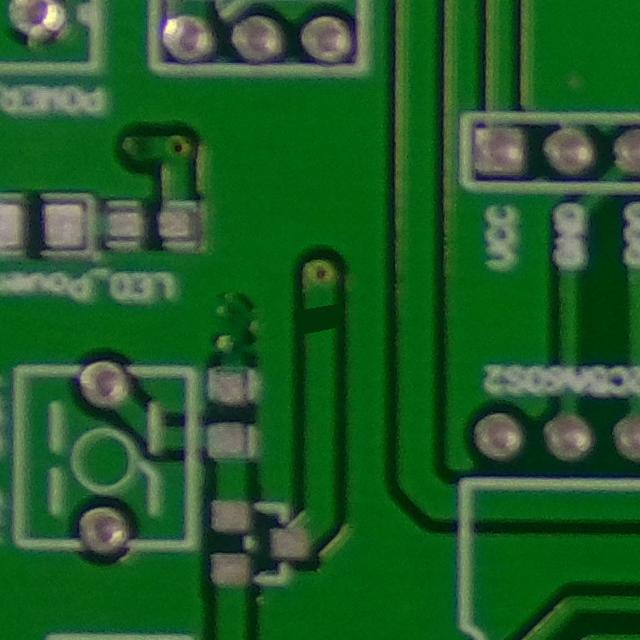open_circuit: (298, 294, 343, 346)
